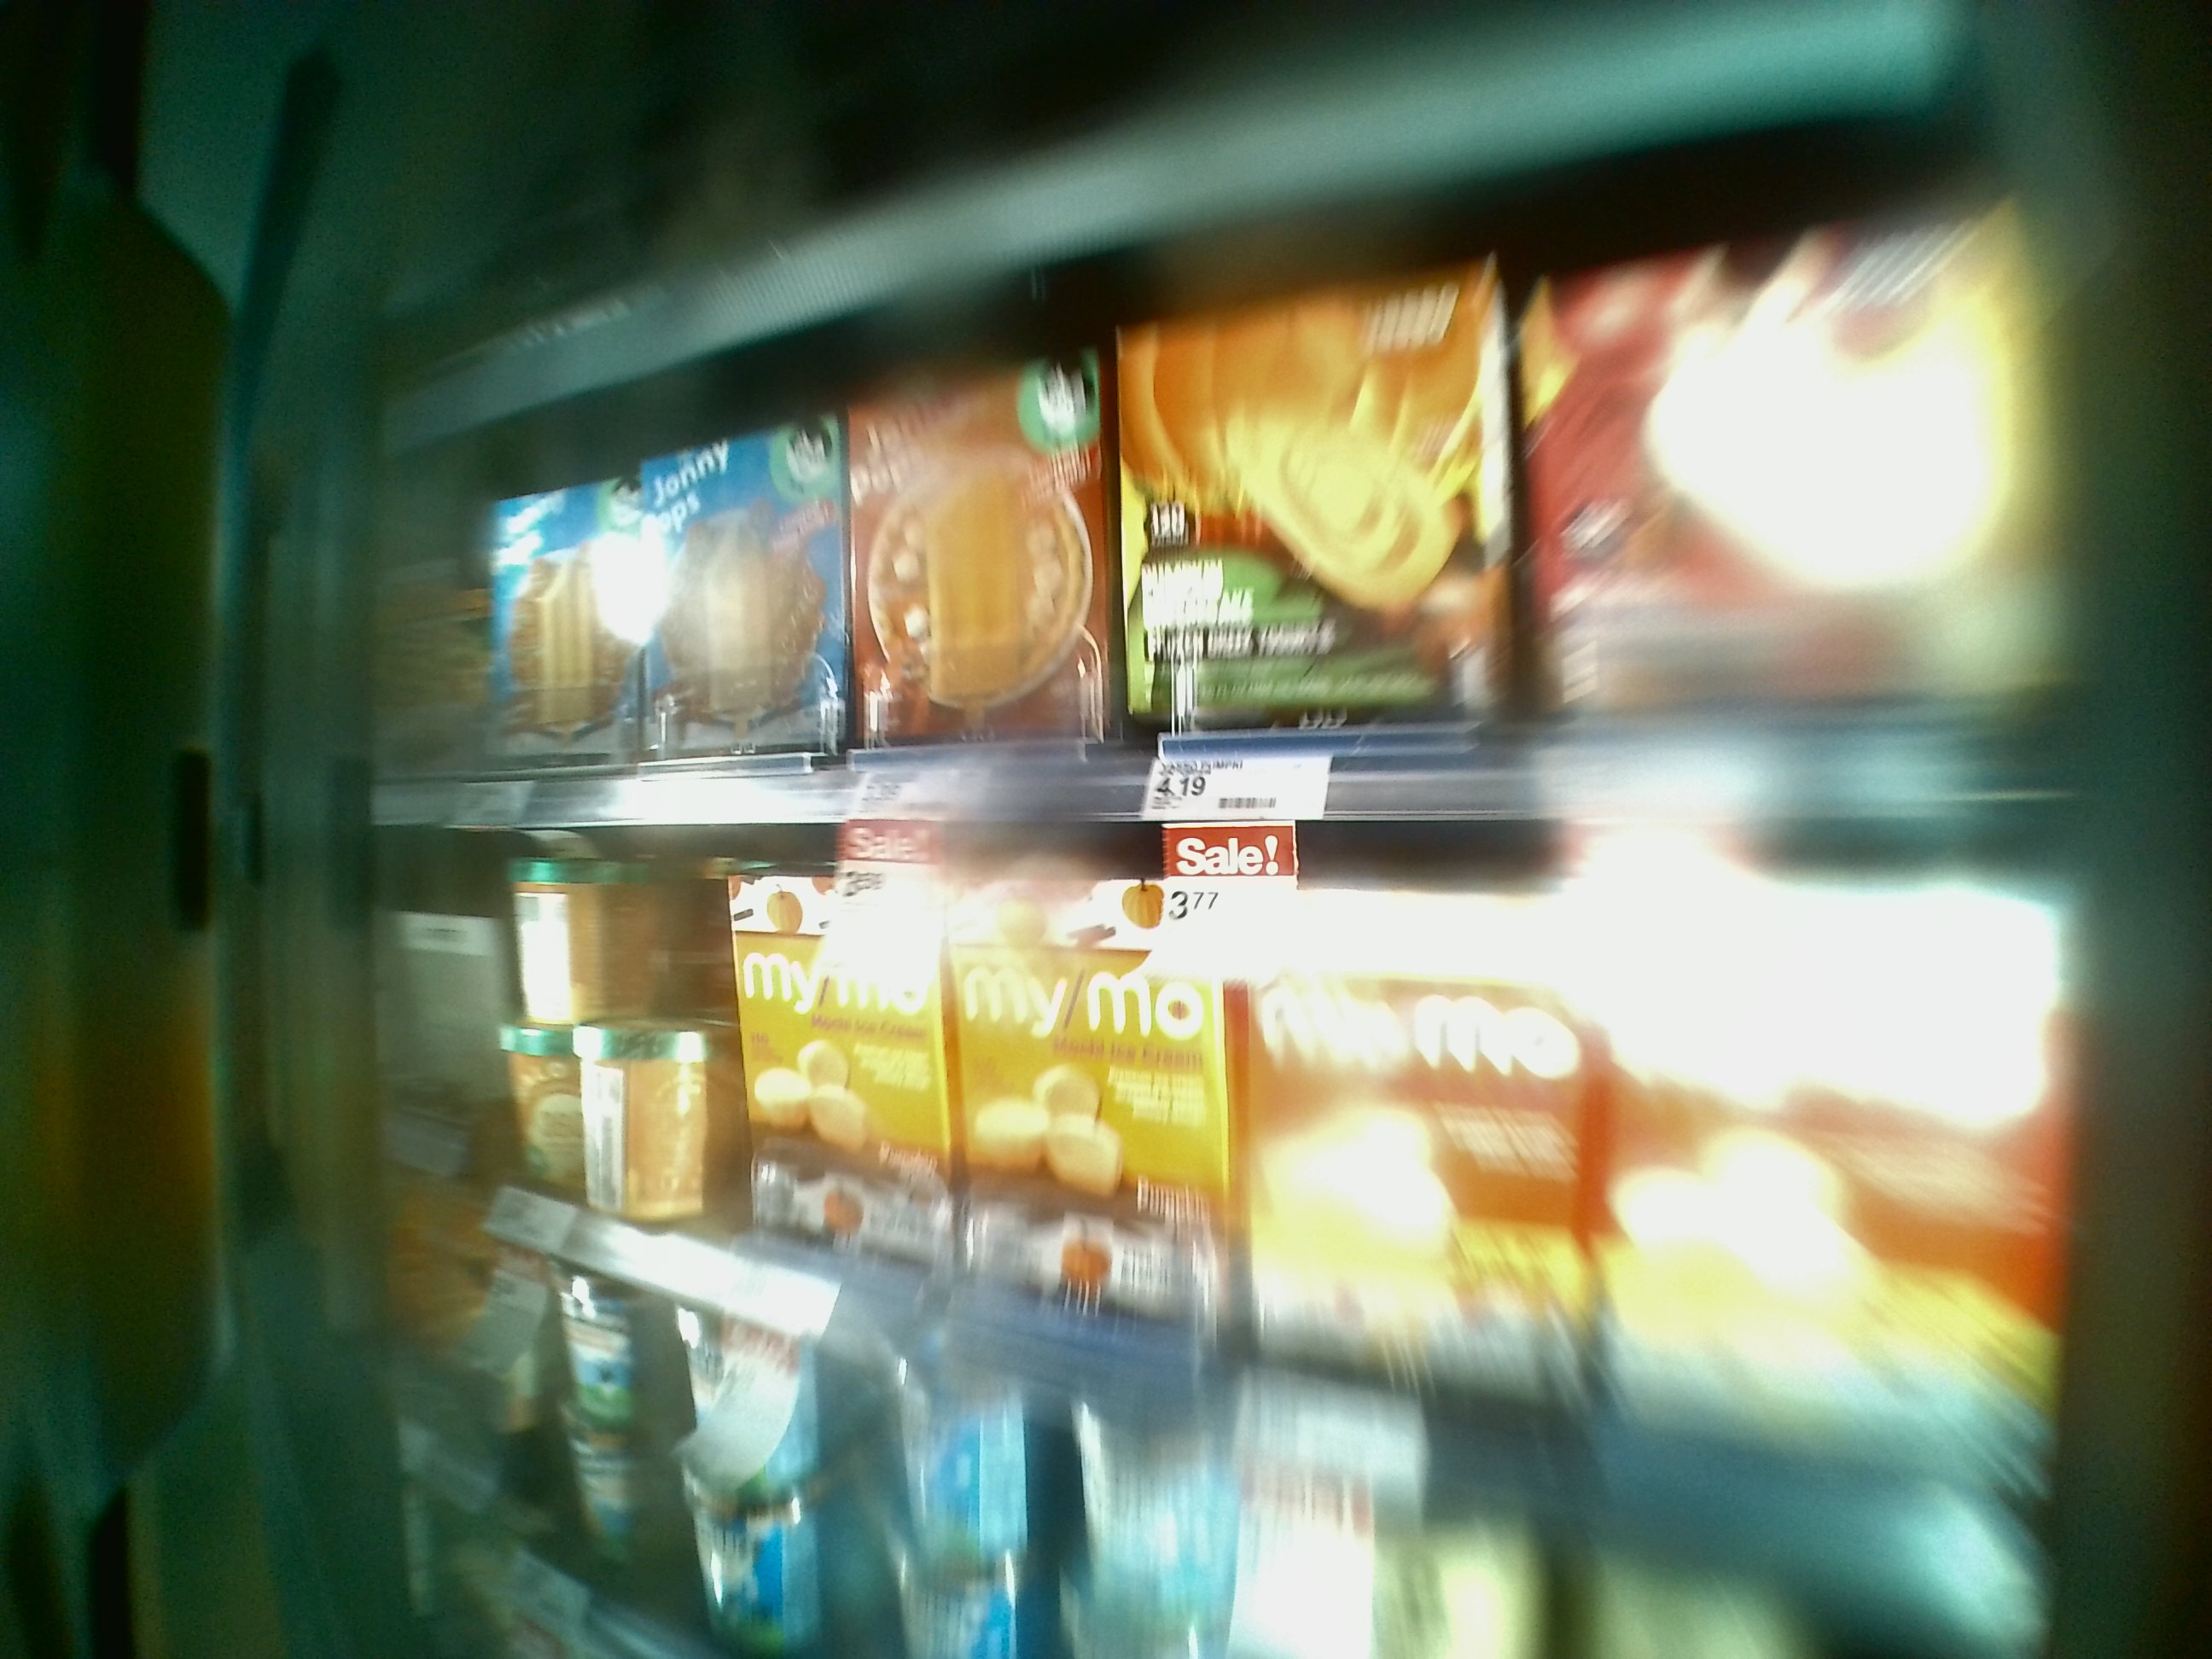shelf: (366, 775, 2036, 1560), (399, 272, 2071, 809)
